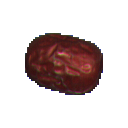gd: (20, 26, 114, 117)
